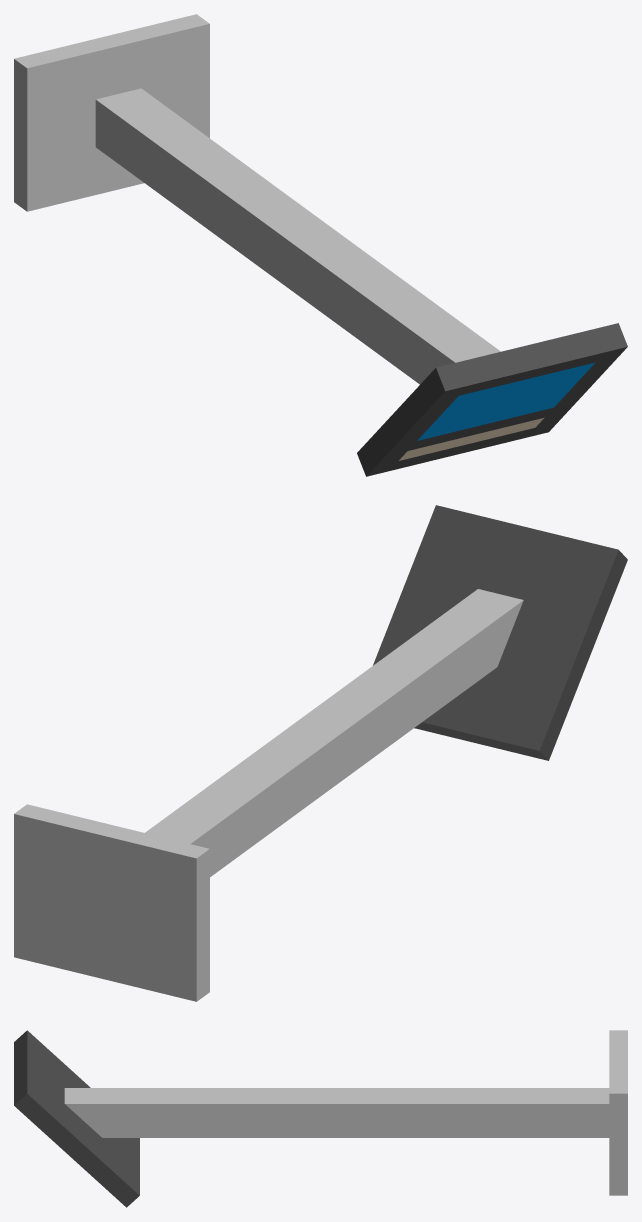
Rendered from controller_1.dae.
3 views of the same model, one above another, from view 1: azimuth 30°, elevation 25°; view 2: azimuth 150°, elevation 25°; view 3: azimuth 270°, elevation 25° (orthographic). The views are drawn at different scales.
Parts seen in each view (by area): view 1: coords_ME_ID11_MA_material_11, coords_ME_ID3_MA_material_11, coords_ME_ID17_MA_material, coords_ME_ID25_MA_material_6, coords_ME_ID33_MA_material_12; view 2: coords_ME_ID17_MA_material, coords_ME_ID3_MA_material_11, coords_ME_ID11_MA_material_11; view 3: coords_ME_ID11_MA_material_11, coords_ME_ID17_MA_material, coords_ME_ID3_MA_material_11.
Part boxes in pixels (<box>): coords_ME_ID11_MA_material_11: <box>95,88,500,384</box>; coords_ME_ID3_MA_material_11: <box>14,14,209,211</box>; coords_ME_ID17_MA_material: <box>357,323,627,476</box>; coords_ME_ID25_MA_material_6: <box>417,362,595,440</box>; coords_ME_ID33_MA_material_12: <box>399,417,544,460</box>; coords_ME_ID17_MA_material: <box>373,505,627,760</box>; coords_ME_ID3_MA_material_11: <box>14,804,209,1001</box>; coords_ME_ID11_MA_material_11: <box>145,589,523,876</box>; coords_ME_ID11_MA_material_11: <box>64,1088,609,1137</box>; coords_ME_ID17_MA_material: <box>14,1030,139,1207</box>; coords_ME_ID3_MA_material_11: <box>609,1030,627,1195</box>.
Size of the model in its own units: 3.46 by 2.9 by 14.16.
